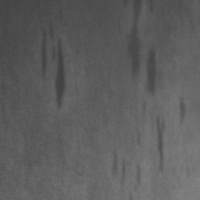inclusion: (37, 19, 71, 115), (122, 1, 147, 84), (107, 147, 146, 194), (147, 114, 170, 177), (142, 46, 166, 98), (174, 94, 191, 128)
